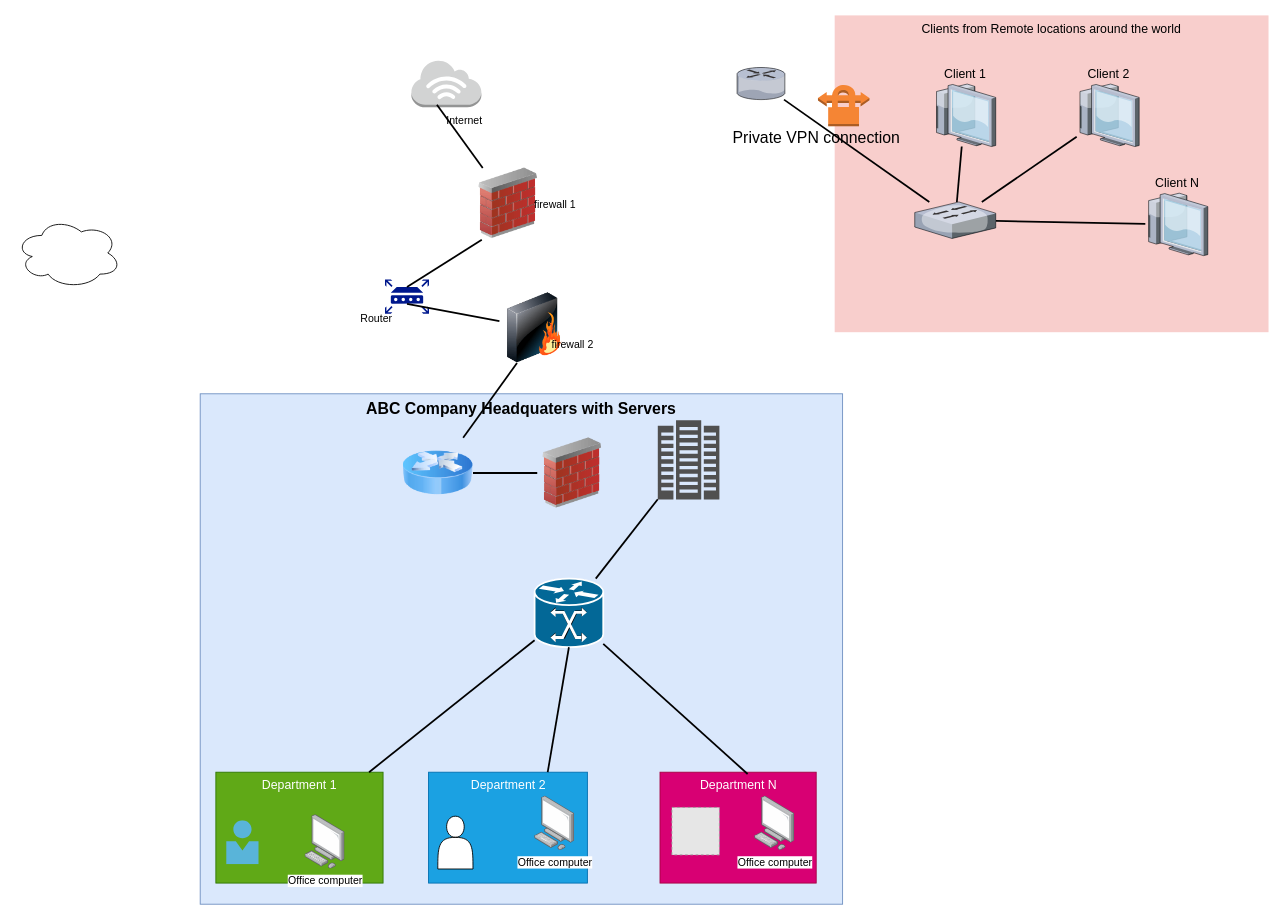
Some shapes in this 1284 by 920 pixel diagram are drawn without their labels. Grey dashed boxes stand in for pictures. The shapes that lost their labels are listed below. From the top down, each one's centre as x and y in pixels, then its label:
point 68,252: Branch 1
point 688,459: Main servers
